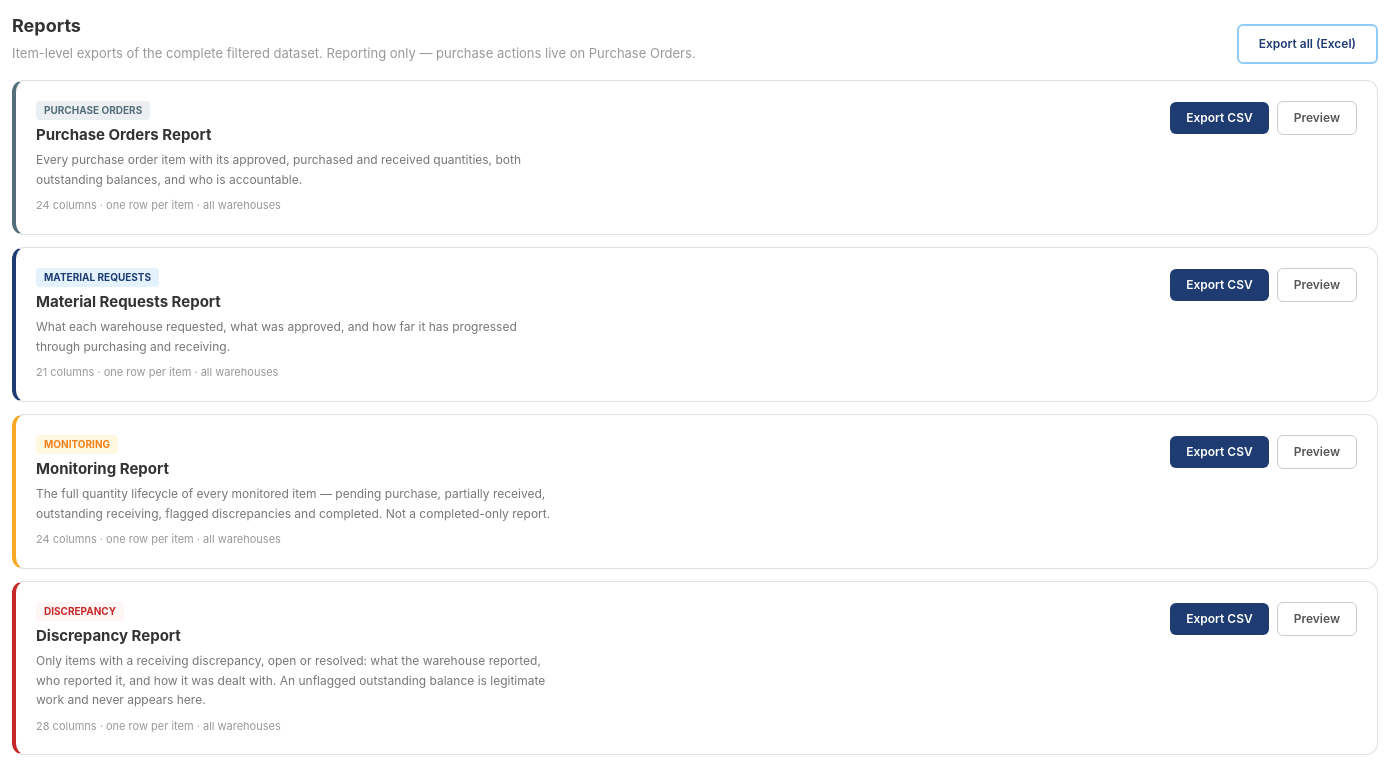
Test case: P6-01 — CSV export › a truncated CSV still reports incompleteness AFTER the file is downloaded
What coordinates should you click on to do the following:
click the button "Export CSV" in the row of "Purchase Orders Report"
I would click on:
 (1219, 118)
Its box is x1=1170 y1=102 x2=1269 y2=134.
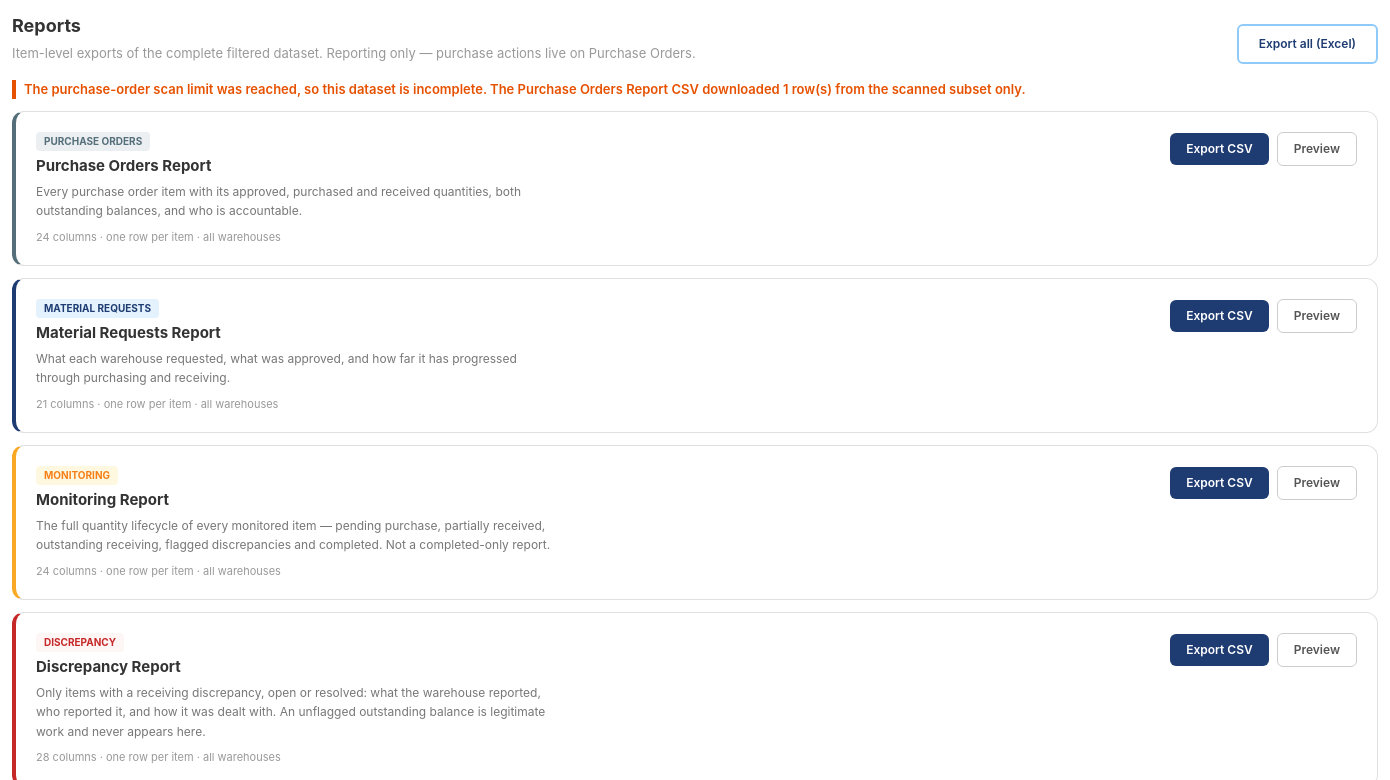
Now the message shows "scan limit was reached", box x1=24 y1=80 x2=1026 y2=96
Now the message shows "scanned subset only", box x1=24 y1=80 x2=1026 y2=96
